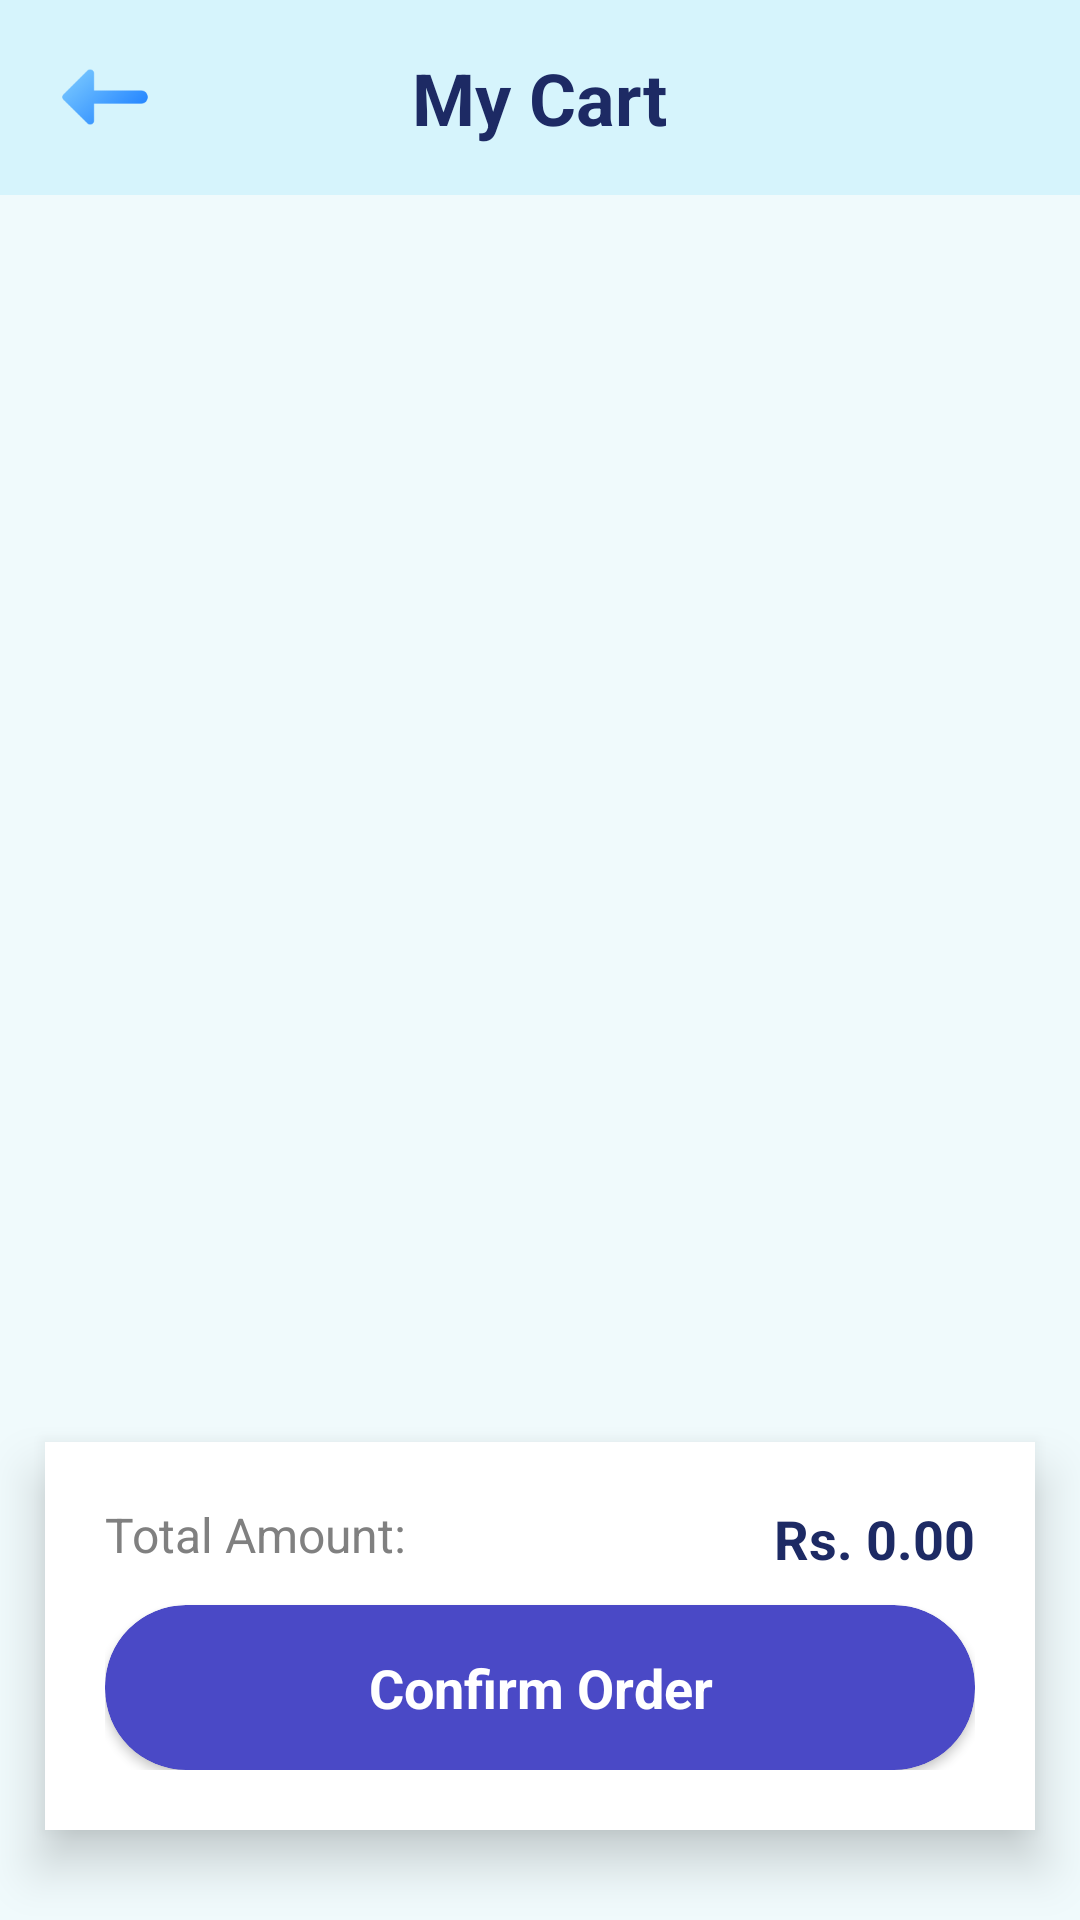

Icons on this 1080×1920 Android screen, each with the point to tap as [x,y]:
Back: [105,97]
